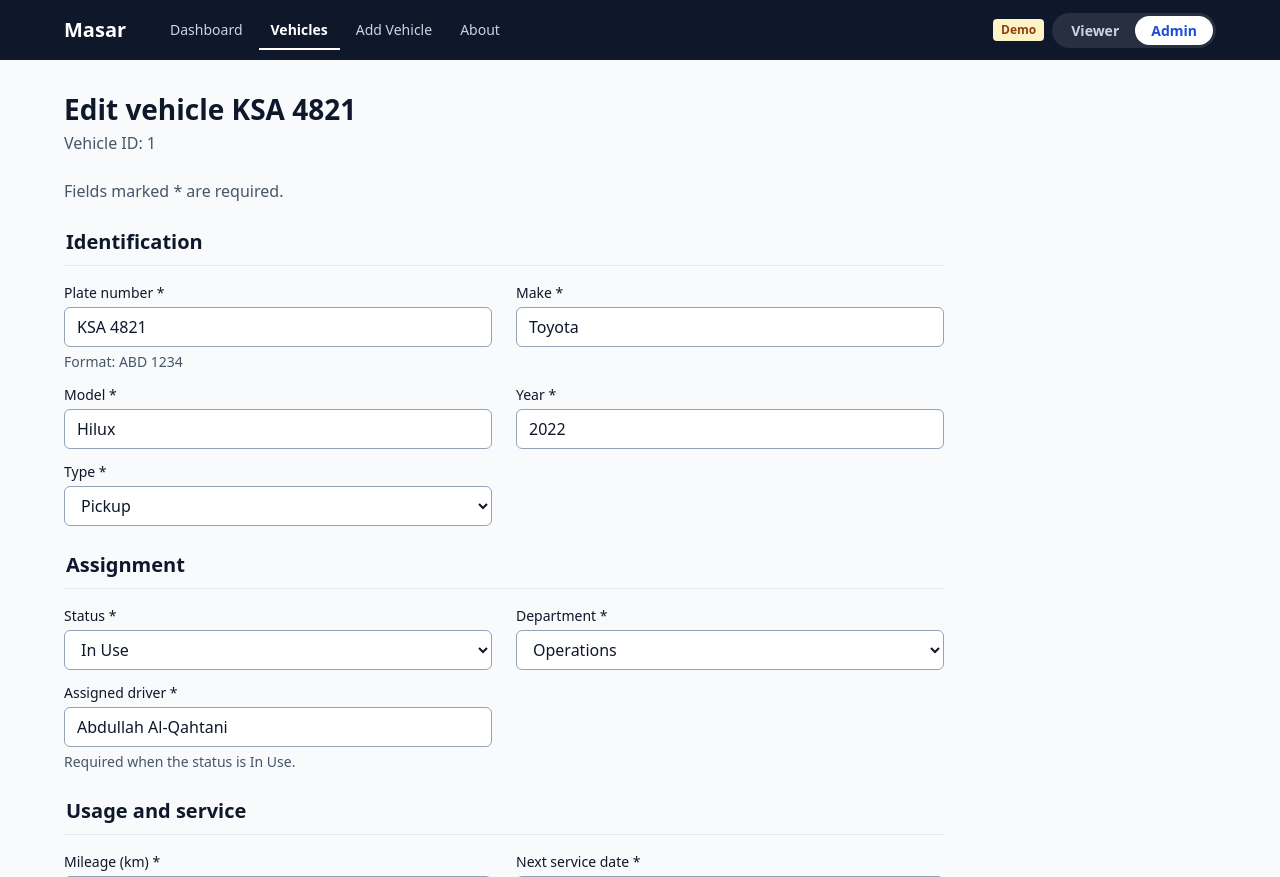
Test case: Edit vehicle (US-5) › rejects another vehicle's plate (AC-5.4)
This screenshot has width=1280, height=877.
Replace the text in the field labelled "Plate number *" with "RJD 1507": (278, 327) [64,307,492,347]
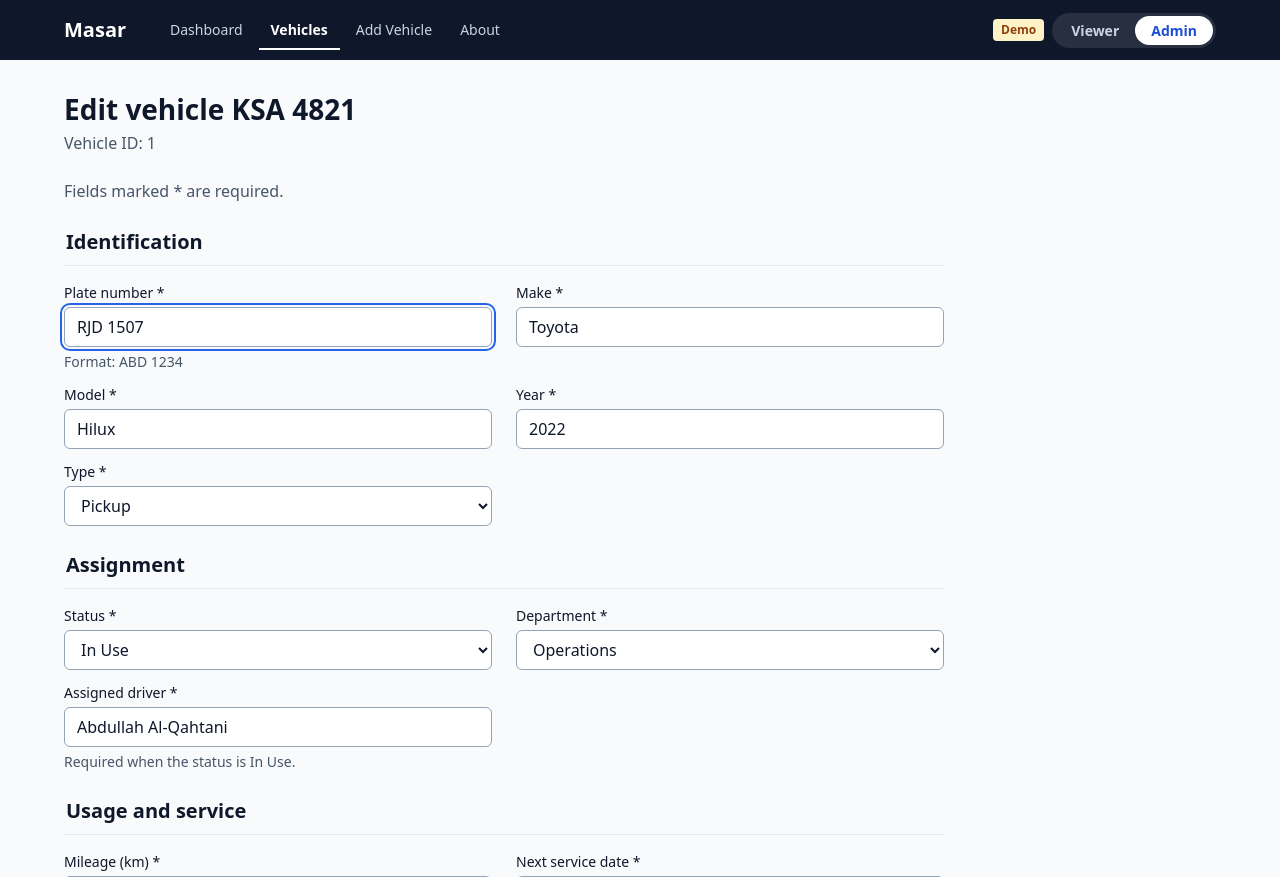
Press Tab
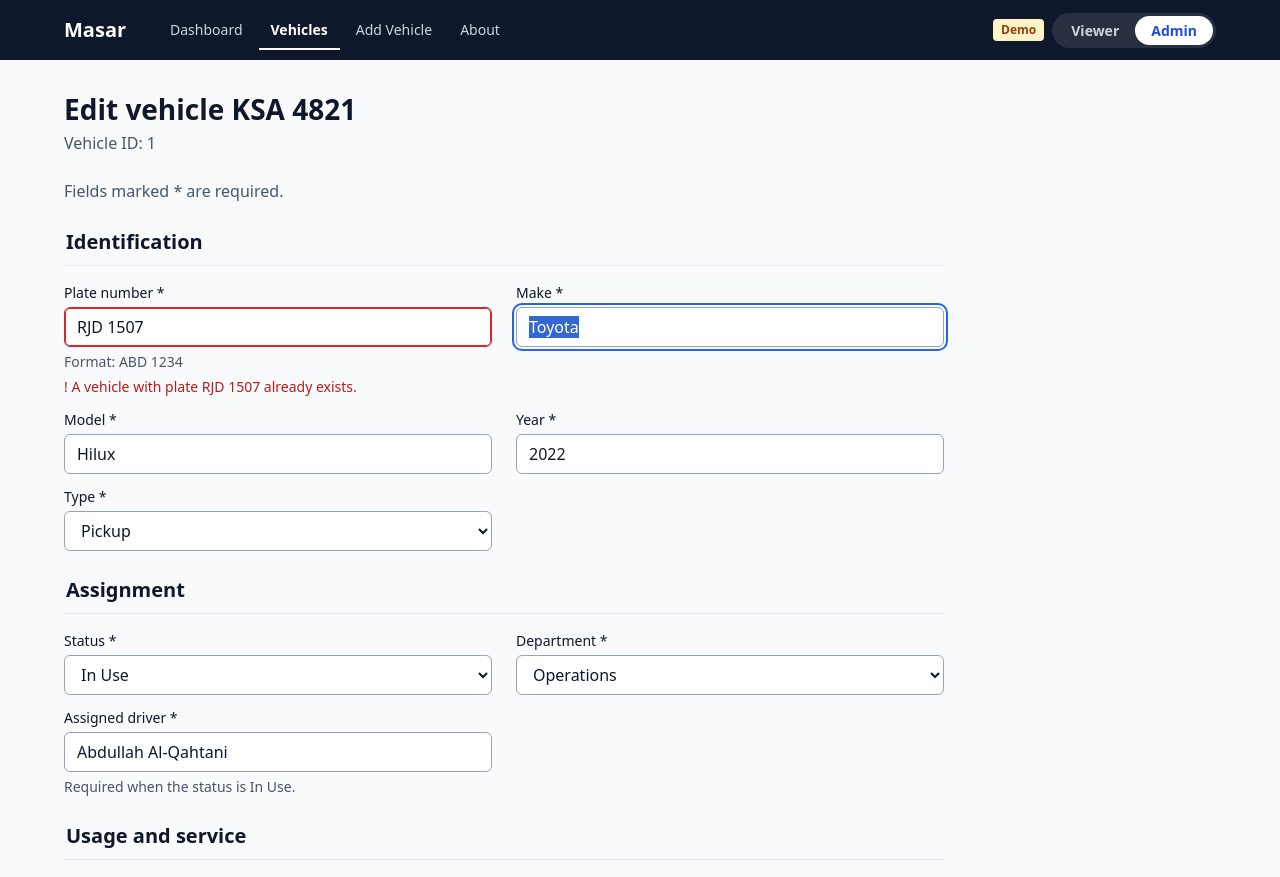
Expected: the text "A vehicle with plate RJD 1507 already exists." is shown, [71,377,357,396]
